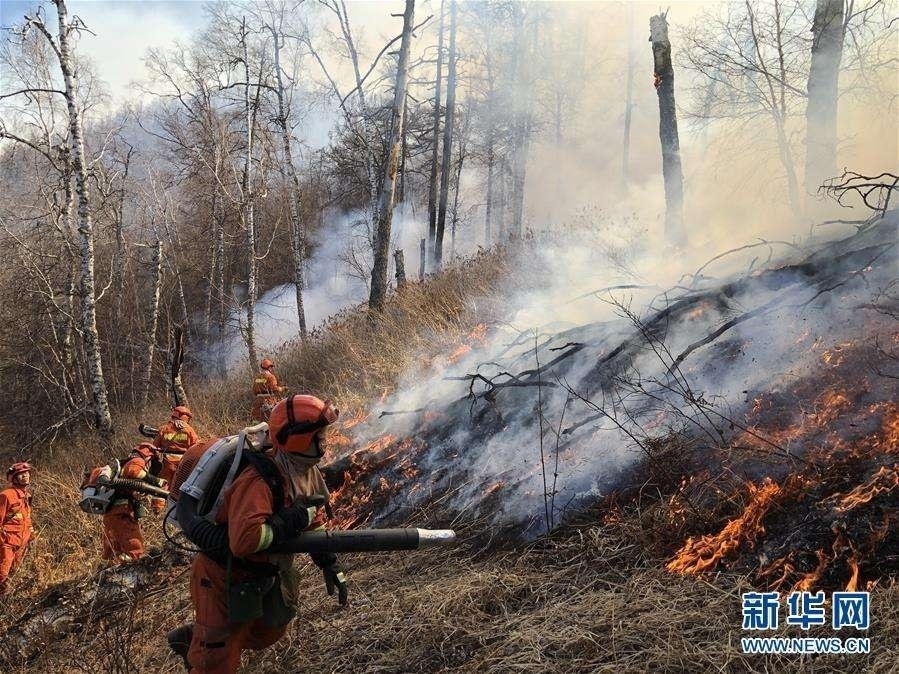fire: (668, 328, 898, 601)
